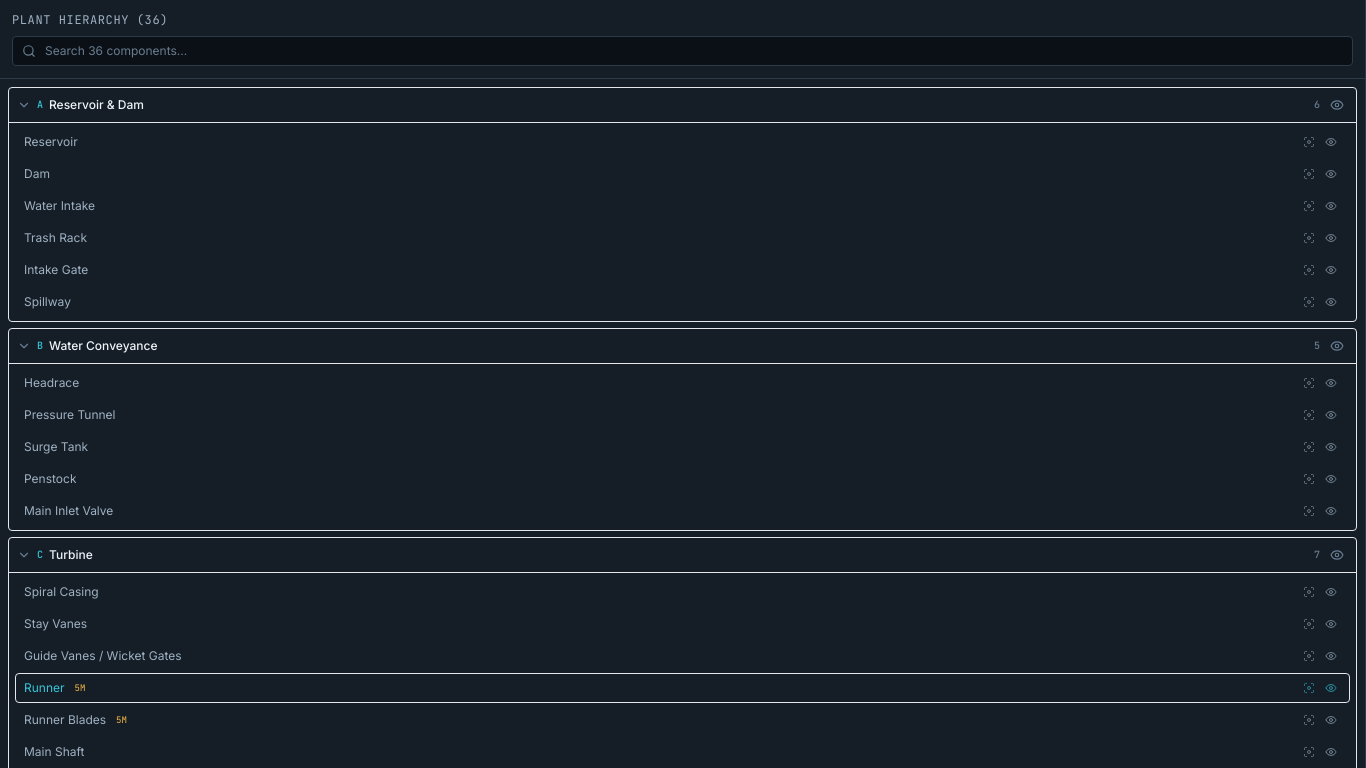
Test case: Plant Anatomy Workspace › filters all 36 components in HierarchyTree and updates selection
The image size is (1366, 768).
Later steps or results of the test are not shown.
Expected: the text "Plant Hierarchy (36)" is shown, [12,12,168,28]
Step 1. Type "Spiral" into the search field named "Search plant components" → (682, 51), box [12,36,1353,66]
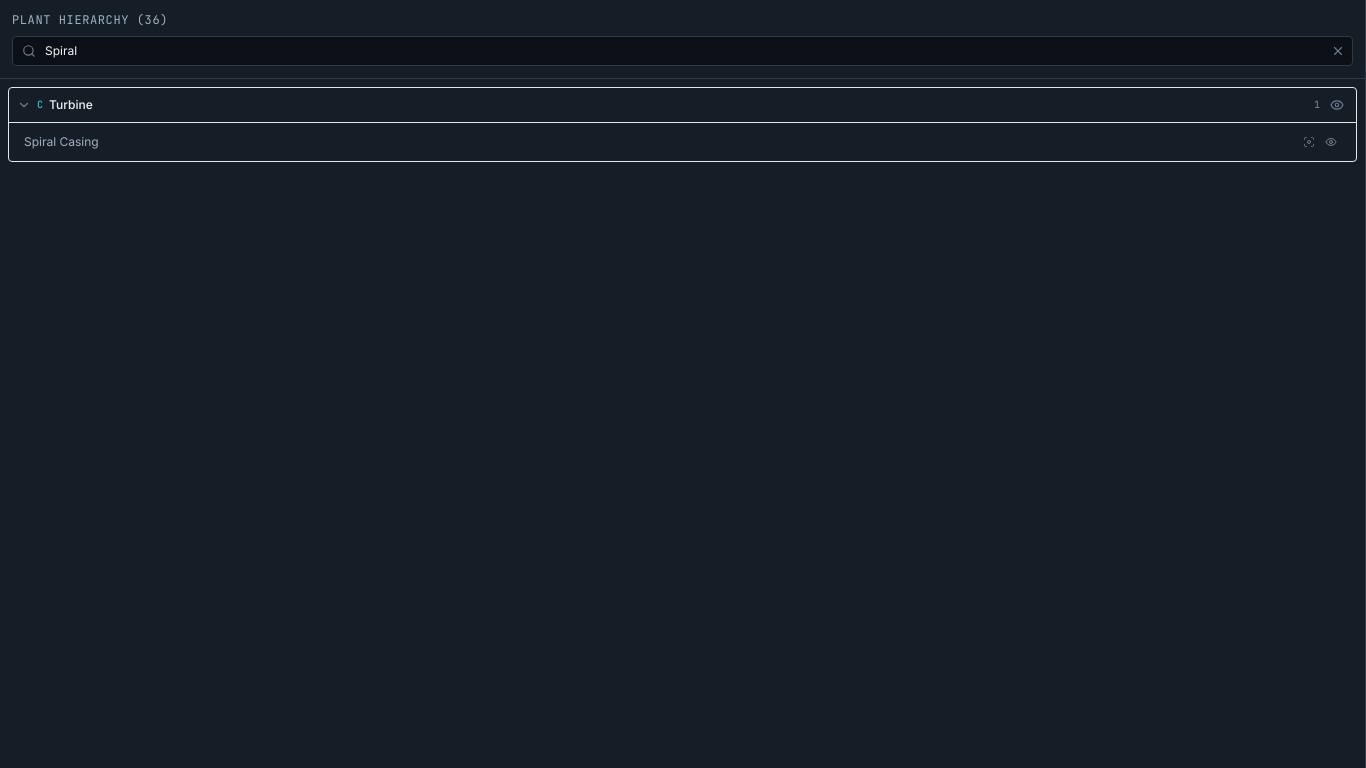
Expected: the text "Spiral Casing" is shown, [24,134,99,150]
Result: the button "Surge Tank" is gone
